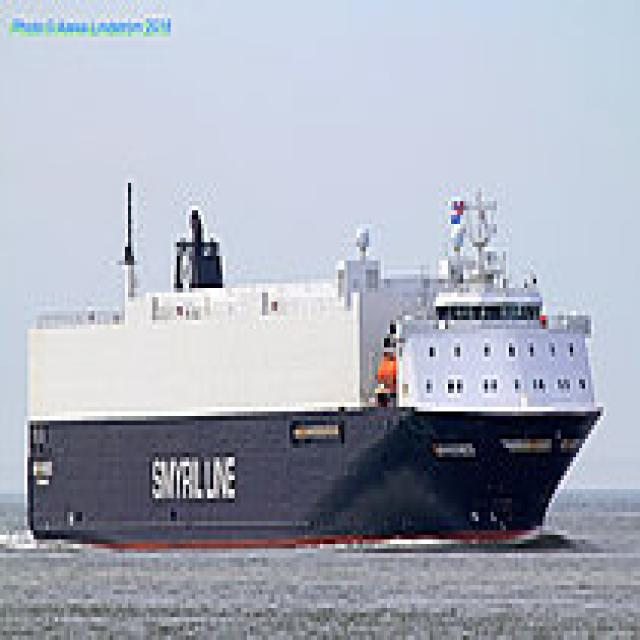Carrier: (15, 174, 613, 548)
